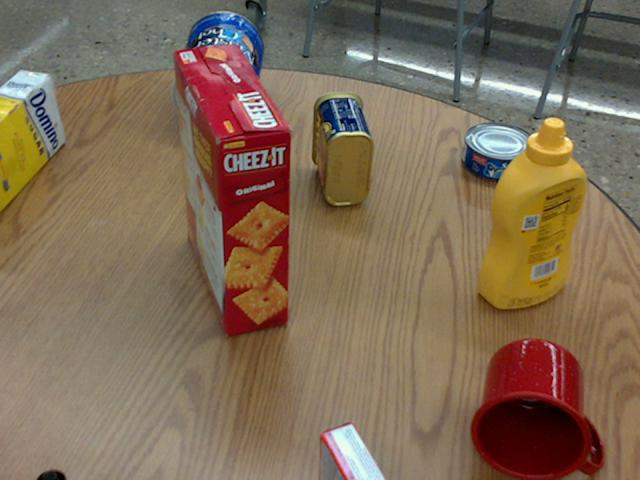cracker_box: (176, 46, 294, 335)
gelatin_box: (319, 424, 383, 479)
large_marker: (42, 474, 66, 479)
master_chef_can: (172, 12, 263, 134)
mug: (473, 338, 603, 479)
mustard_bottle: (478, 117, 587, 306)
potted_meat_can: (313, 90, 375, 205)
sugar_box: (0, 70, 64, 213)
tuna_fish_can: (462, 120, 535, 181)
